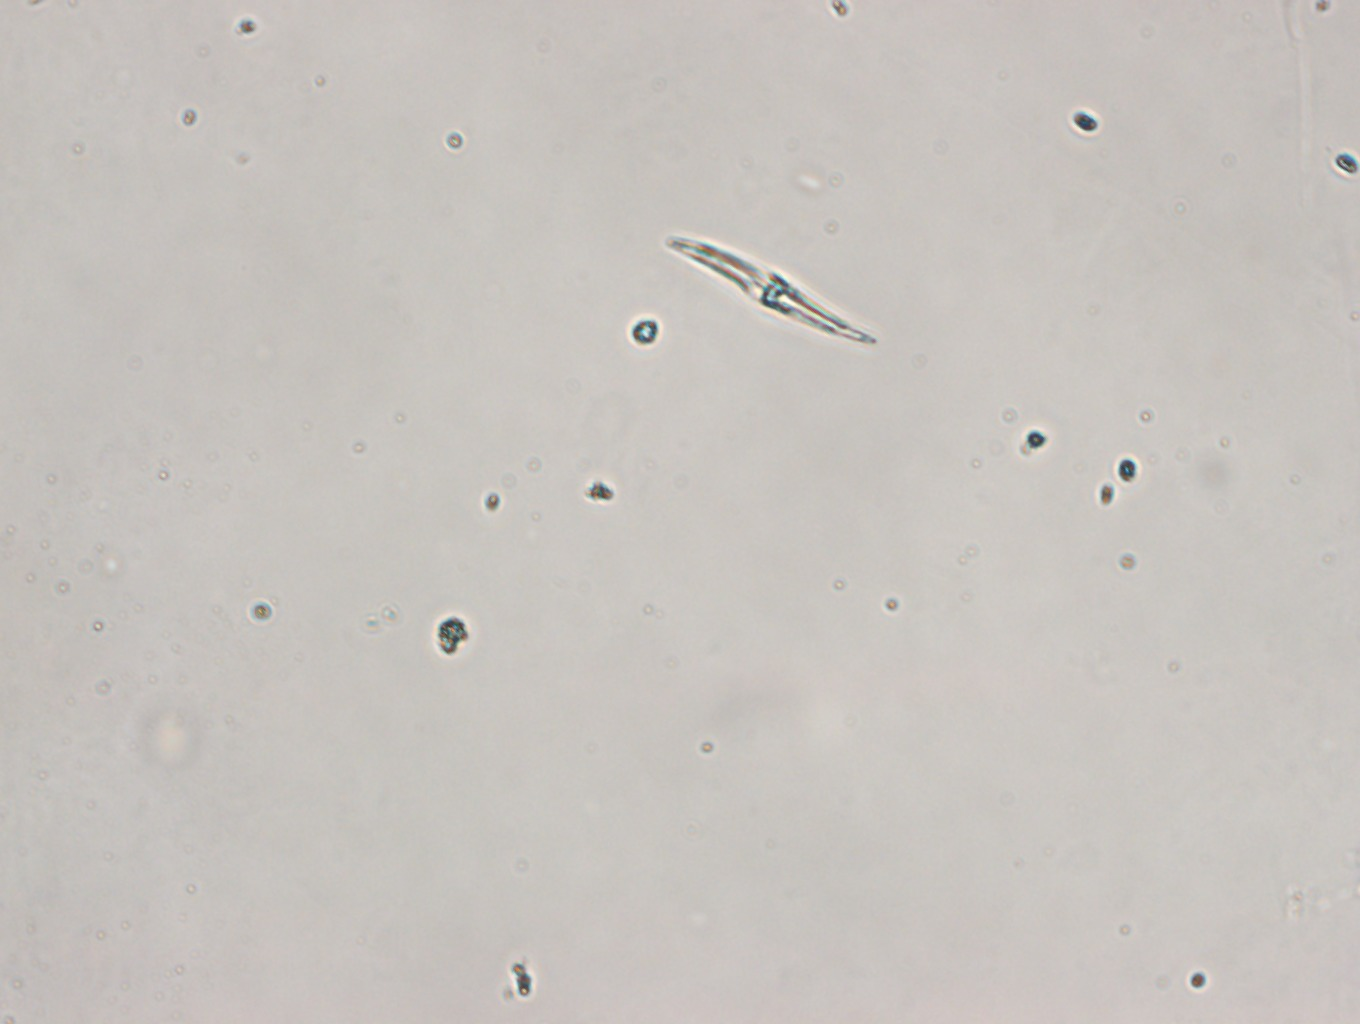pleurosigma pelagicum: (657, 233, 874, 345)
